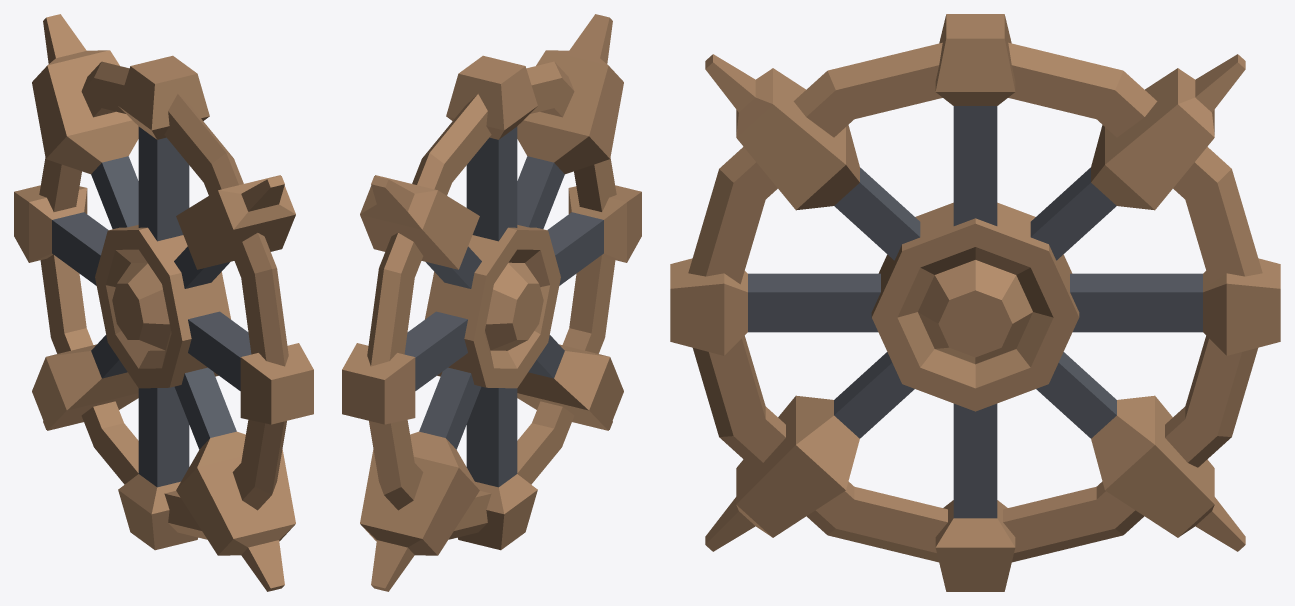
The model's file is OrnateWheel.fbx.
3 renders of one model, left to right at view 1: azimuth 30°, elevation 25°; view 2: azimuth 150°, elevation 25°; view 3: azimuth 270°, elevation 25°, orthographic. The views are drawn at different scales.
Parts seen in each view (by area): view 1: OrnateWheel; view 2: OrnateWheel; view 3: OrnateWheel.
Part boxes in pixels (x1,y1,x2,y2): OrnateWheel: (14, 14, 313, 591); OrnateWheel: (342, 14, 641, 591); OrnateWheel: (670, 14, 1280, 591).
Size of the model in its own units: 0.1815 by 0.9506 by 0.9506.
